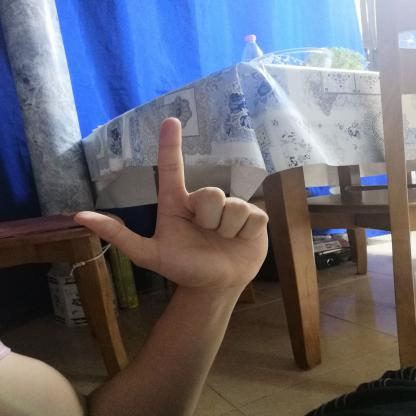LAAM: (56, 106, 286, 298)
